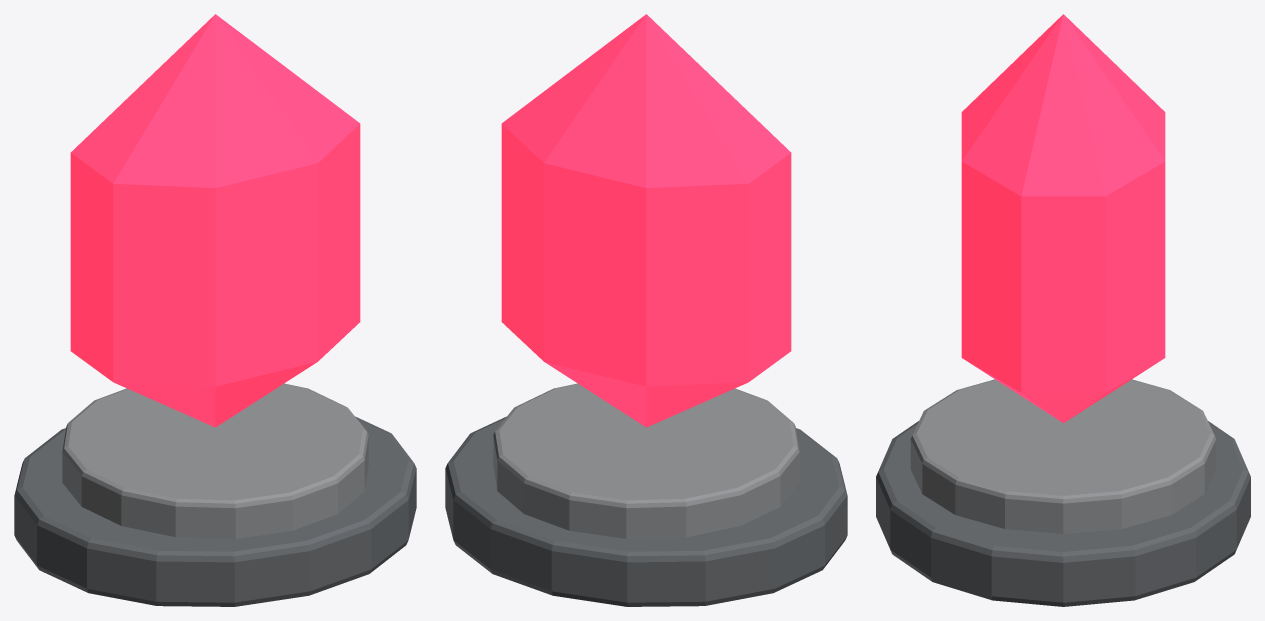
Rendered from Refined_MagicStone_Diamond.fbx.
The picture shows the model from 3 angles, left to right: view 1: azimuth 30°, elevation 25°; view 2: azimuth 150°, elevation 25°; view 3: azimuth 270°, elevation 25°; orthographic projection.
Parts seen in each view (by area): view 1: Core.004, Pedestal_Upper.004, Pedestal_Lower.004; view 2: Core.004, Pedestal_Upper.004, Pedestal_Lower.004; view 3: Core.004, Pedestal_Upper.004, Pedestal_Lower.004.
Boxes of the visible parts, bbox=[...] form: Core.004: bbox=[70, 14, 360, 427]; Pedestal_Upper.004: bbox=[62, 383, 368, 538]; Pedestal_Lower.004: bbox=[14, 416, 416, 606]; Core.004: bbox=[501, 14, 791, 427]; Pedestal_Upper.004: bbox=[493, 383, 799, 538]; Pedestal_Lower.004: bbox=[445, 416, 847, 606]; Core.004: bbox=[961, 14, 1165, 422]; Pedestal_Upper.004: bbox=[910, 379, 1216, 533]; Pedestal_Lower.004: bbox=[876, 421, 1250, 606].
Bounding box in the file's own units: 1.76 × 2.43 × 1.62.
